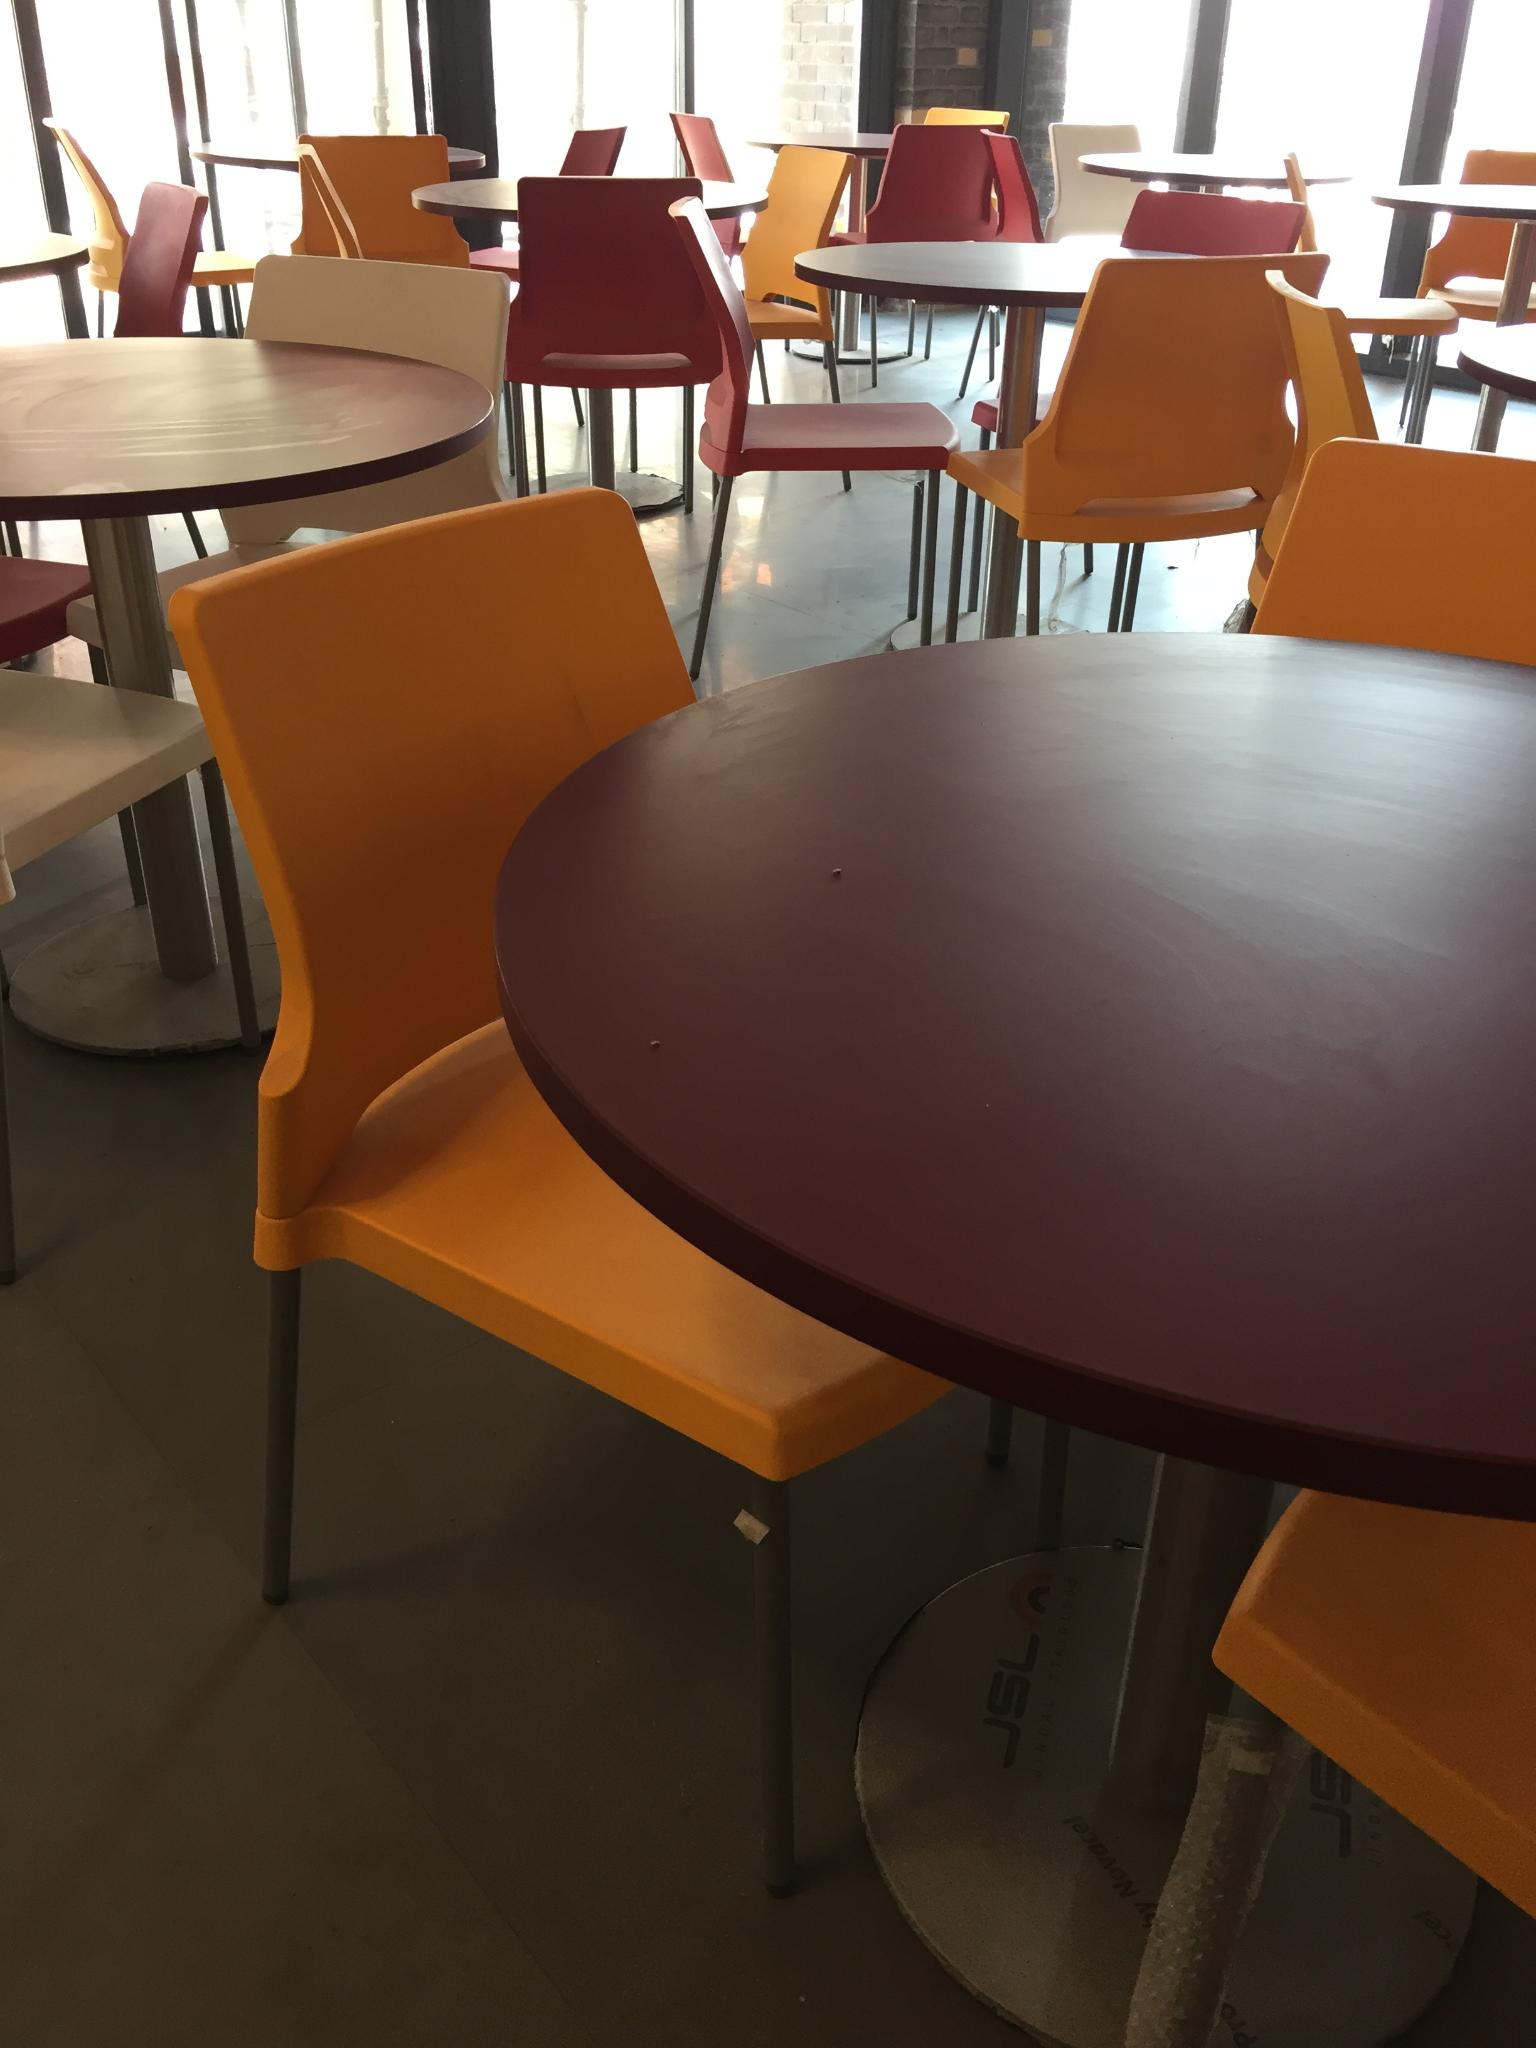chair: (166, 484, 1016, 1895), (1225, 1451, 1536, 2021), (945, 253, 1313, 639), (671, 192, 957, 677), (0, 681, 242, 1063), (1225, 447, 1536, 731), (505, 176, 723, 519), (0, 495, 145, 911), (37, 111, 252, 345), (1284, 155, 1436, 442), (1394, 148, 1536, 440), (878, 121, 992, 381), (750, 155, 847, 403), (1046, 111, 1167, 276), (1455, 144, 1530, 390), (657, 103, 745, 298), (507, 119, 645, 219), (131, 184, 203, 350)
